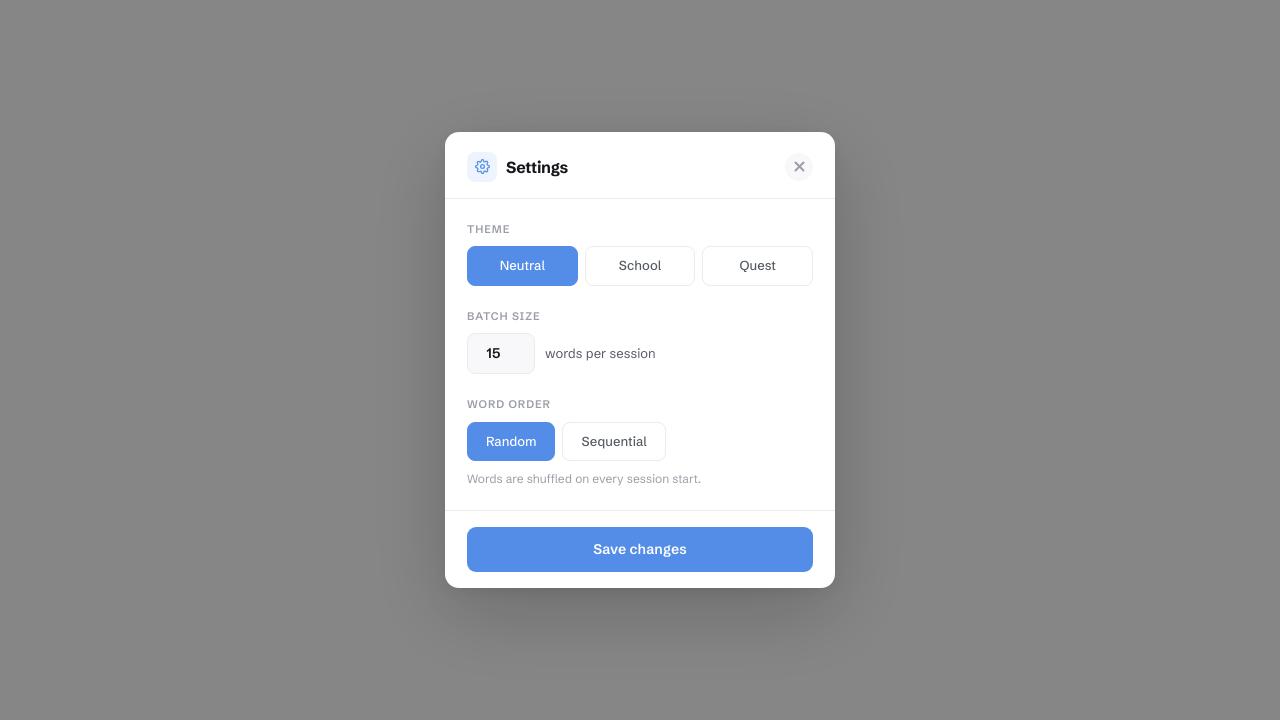
Scenario: SettingsModal — batch size input › clamps to max on blur when value is too high
This screenshot has width=1280, height=720.
Replace the text in the number field with "99" at (501, 354), box top-left (467, 333), bottom-right (535, 374)
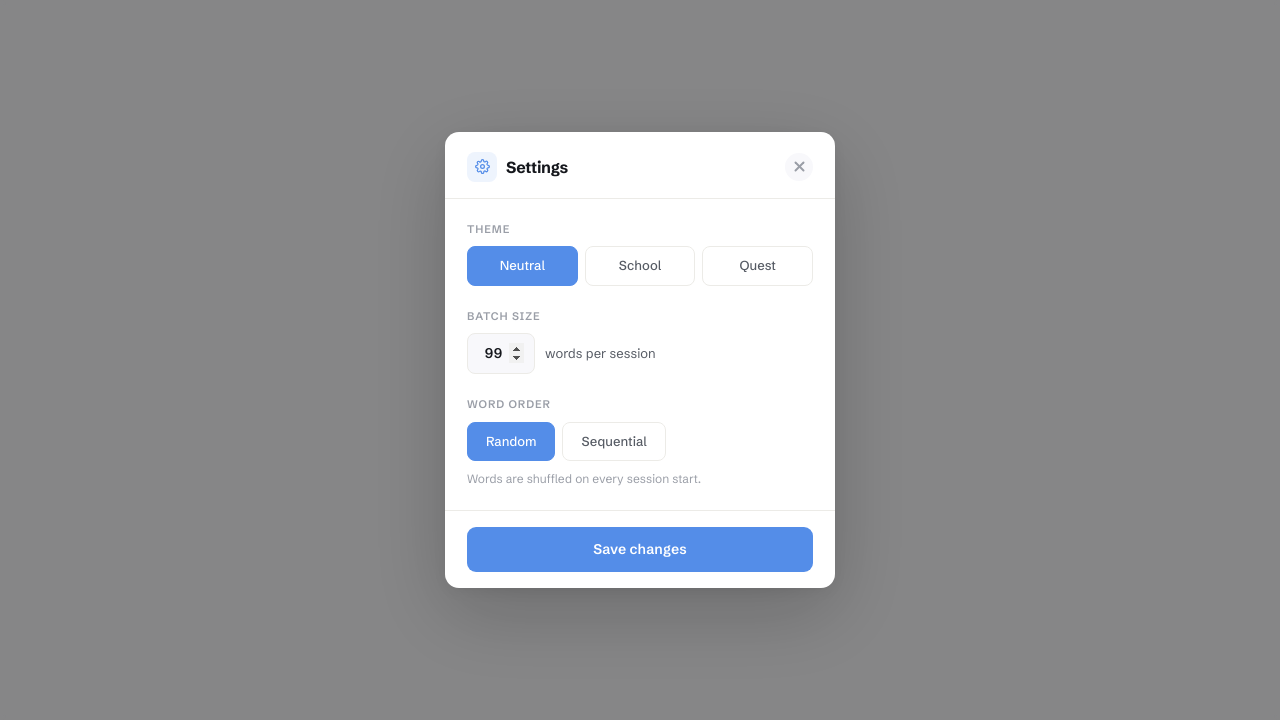
Press Tab
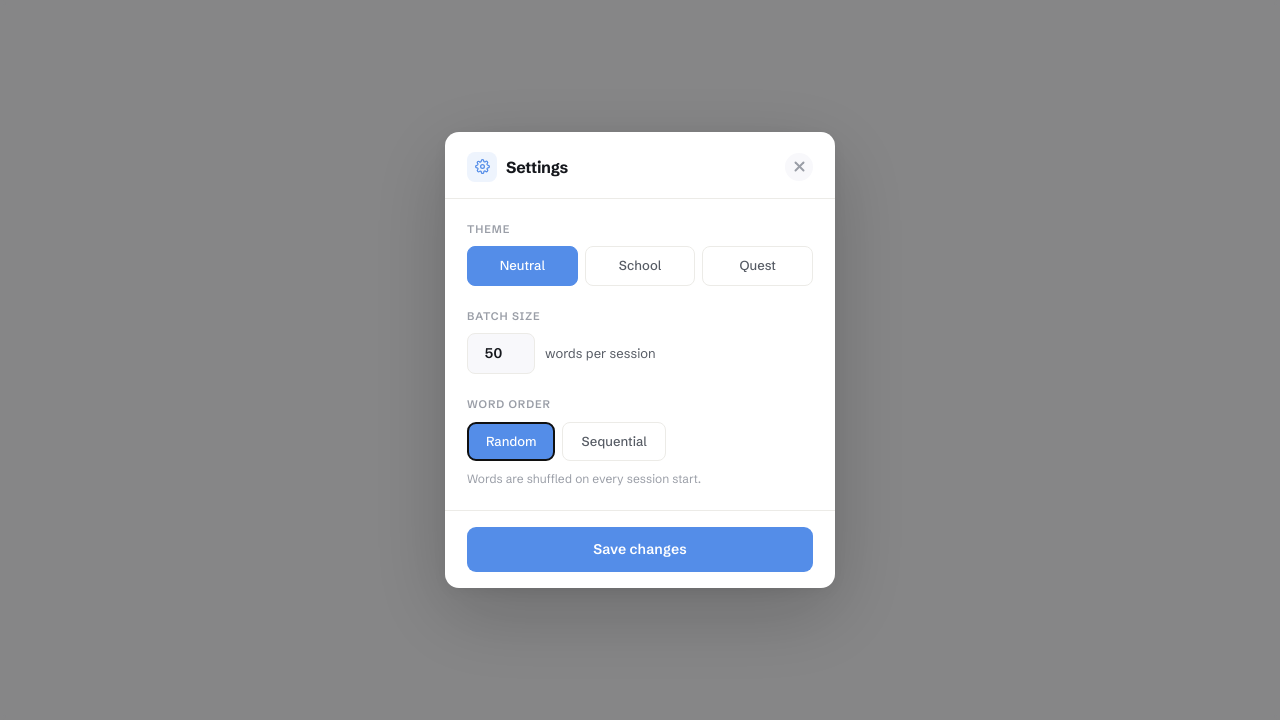
Check: the number field holds "50", box top-left (467, 333), bottom-right (535, 374)
